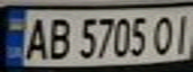0: (115, 14, 133, 58)
5: (75, 15, 100, 60), (130, 12, 151, 59)
7: (93, 13, 115, 60)
A: (21, 14, 51, 61)
B: (42, 15, 72, 61)
I: (169, 10, 193, 54)
O: (151, 11, 178, 56)
